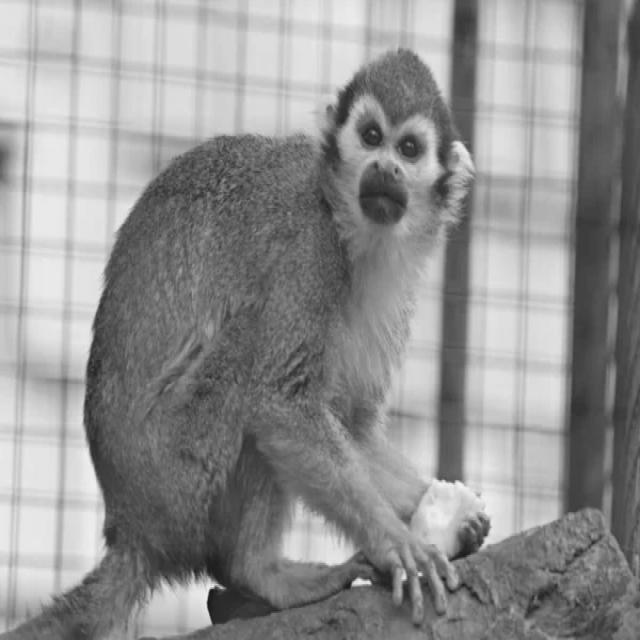Animal: (9, 50, 474, 639)
